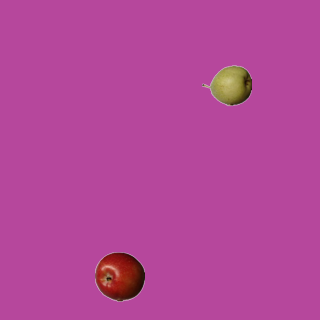Apple Braeburn: (94, 251, 144, 301)
Pear: (201, 60, 251, 110)
